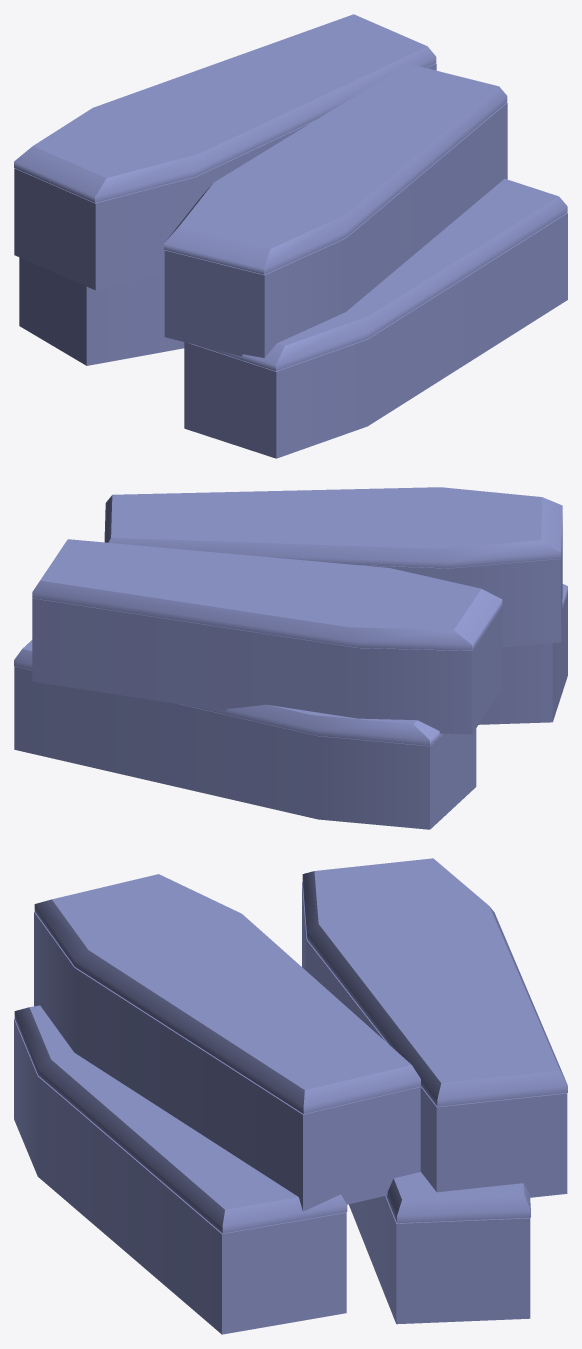
Rendered from Coffin_06_Lod0.fbx.
3 views of the same model, one above another, from view 1: azimuth 30°, elevation 25°; view 2: azimuth 150°, elevation 25°; view 3: azimuth 270°, elevation 25° (orthographic). The views are drawn at different scales.
Parts seen in each view (by area): view 1: Coffin_06_Lod0; view 2: Coffin_06_Lod0; view 3: Coffin_06_Lod0.
Boxes of the visible parts, <box> form: Coffin_06_Lod0: <box>14,14,567,458</box>; Coffin_06_Lod0: <box>14,487,567,829</box>; Coffin_06_Lod0: <box>14,858,567,1334</box>.
Bounding box in the file's own units: 192 × 77.49 × 172.
